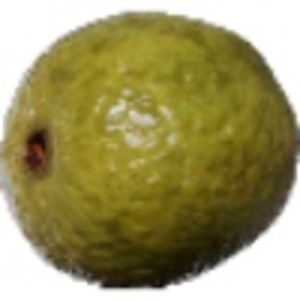goiaba: (3, 6, 297, 286)
